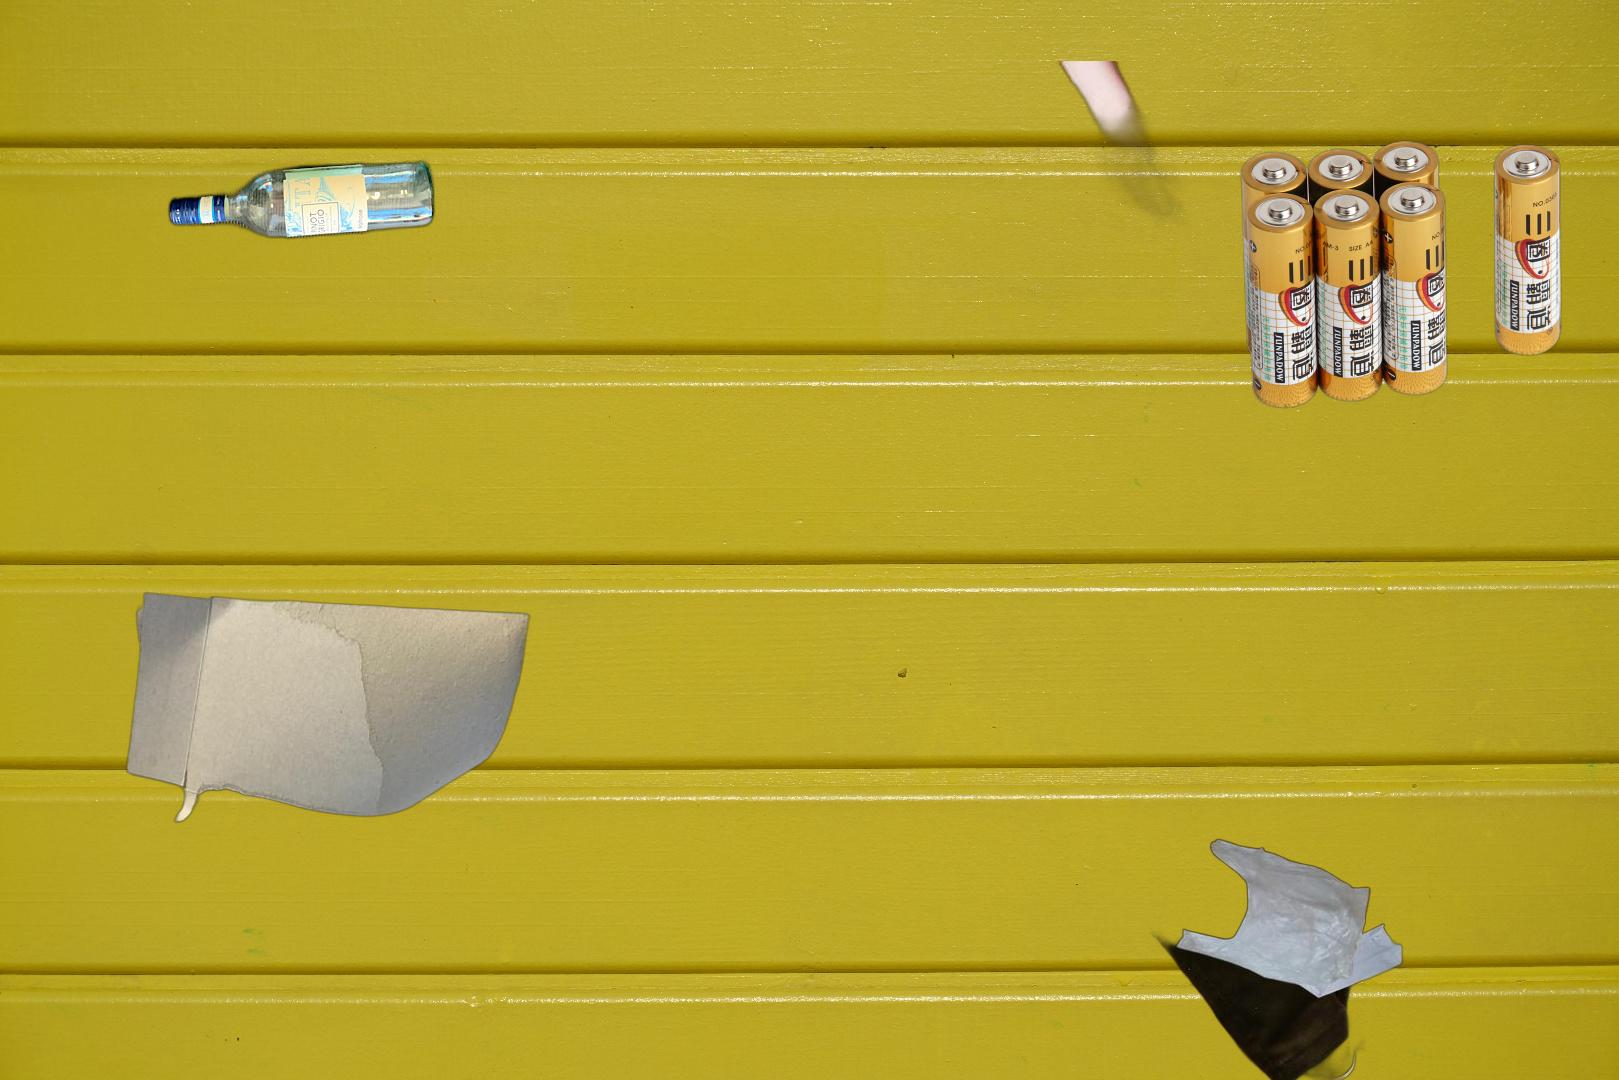battery: (1238, 137, 1565, 412)
glass: (165, 155, 439, 245)
paper: (123, 589, 535, 826)
plastic-bag: (1150, 837, 1406, 1080)
trashbox-cardboard: (813, 61, 1619, 370)
